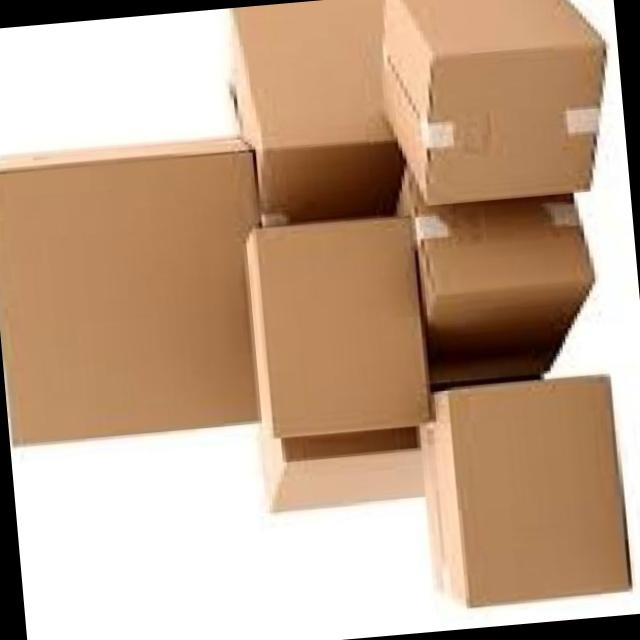cardboard paper: (0, 136, 257, 441), (420, 374, 627, 603), (382, 0, 601, 202), (245, 215, 427, 435), (230, 0, 400, 220), (259, 424, 422, 510)
